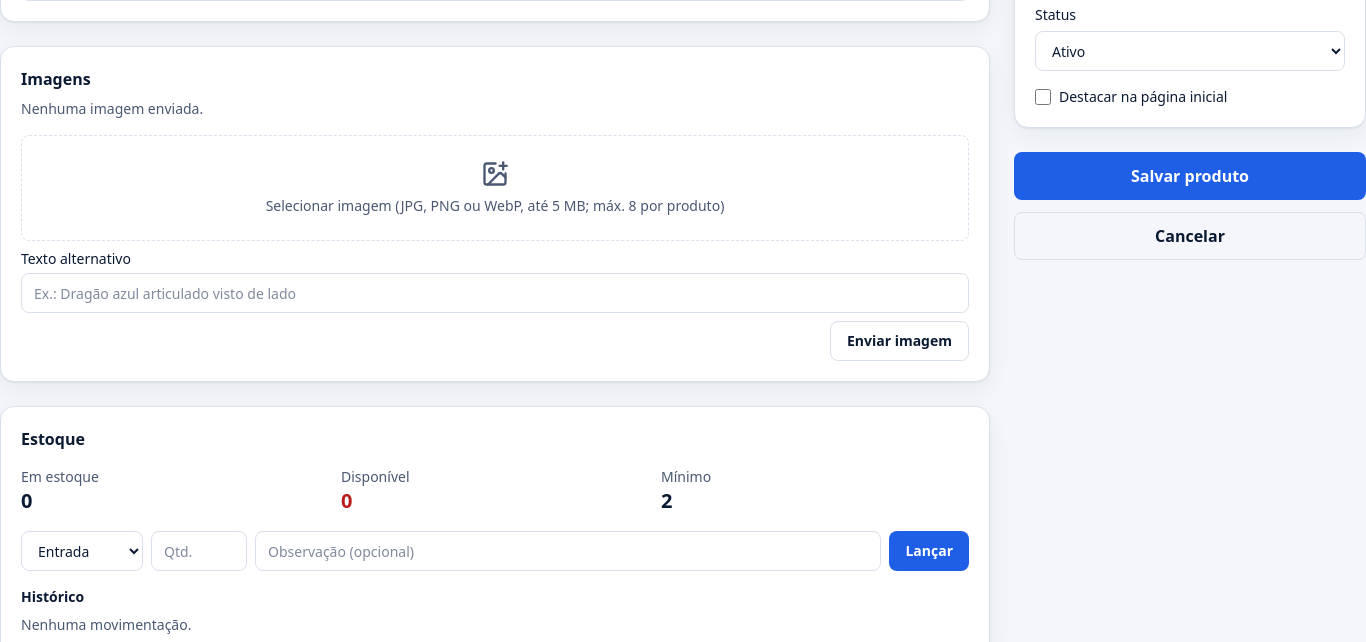
Test: ProductFormPage (edição) › lança estoque pelo painel sem enviar o formulário do produto
(page scrolled)
Type "5" into the number field named "Quantidade" at (199, 551), box [151,531,247,571]
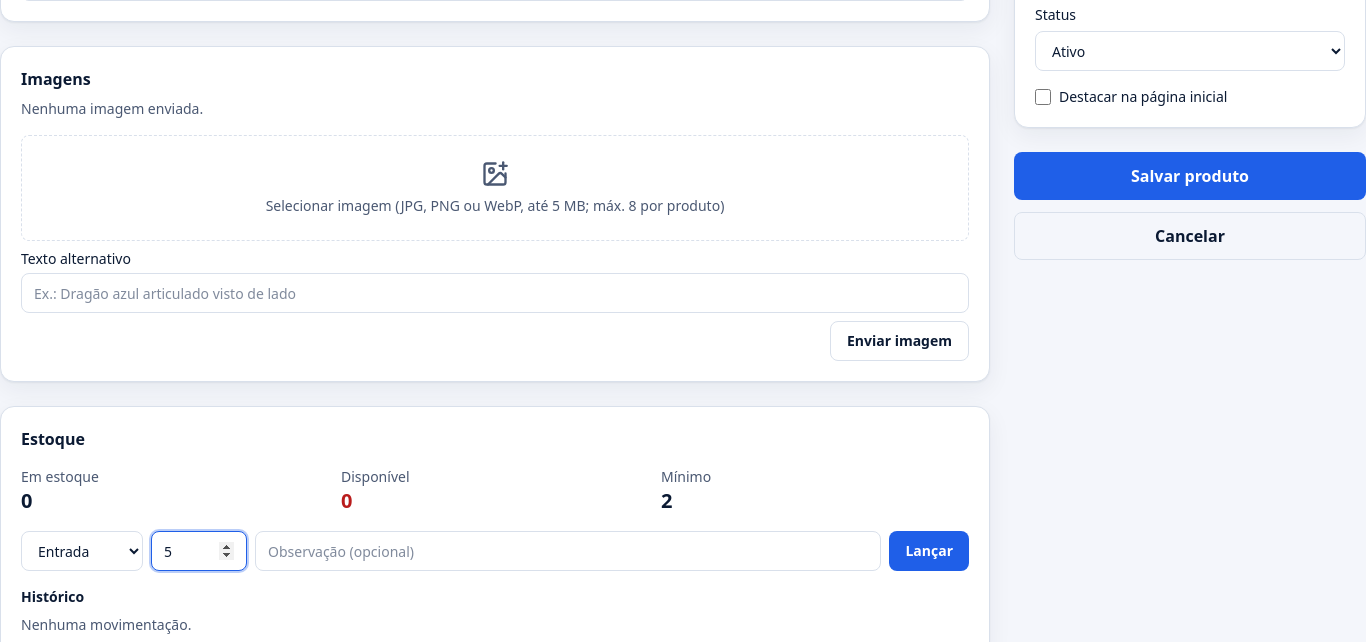
Click the button "Lançar" at (929, 551), box [889,531,969,571]
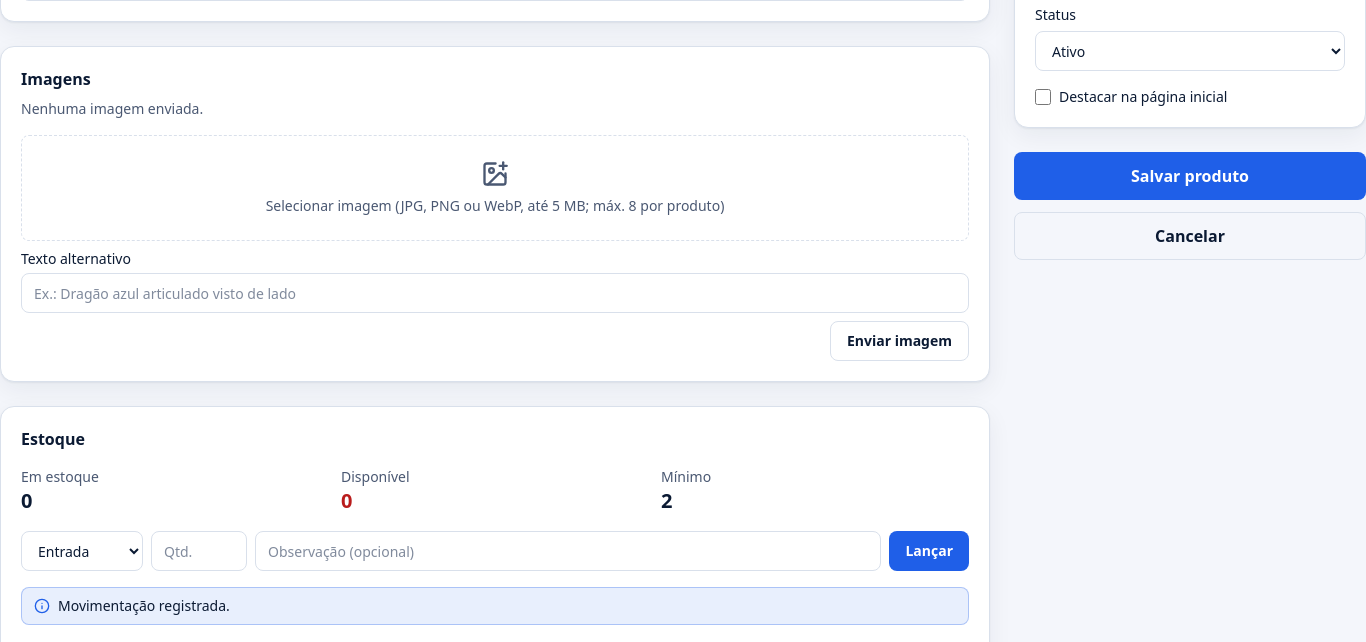
Check: the text "Movimentação registrada." is shown, box [58,596,230,616]
